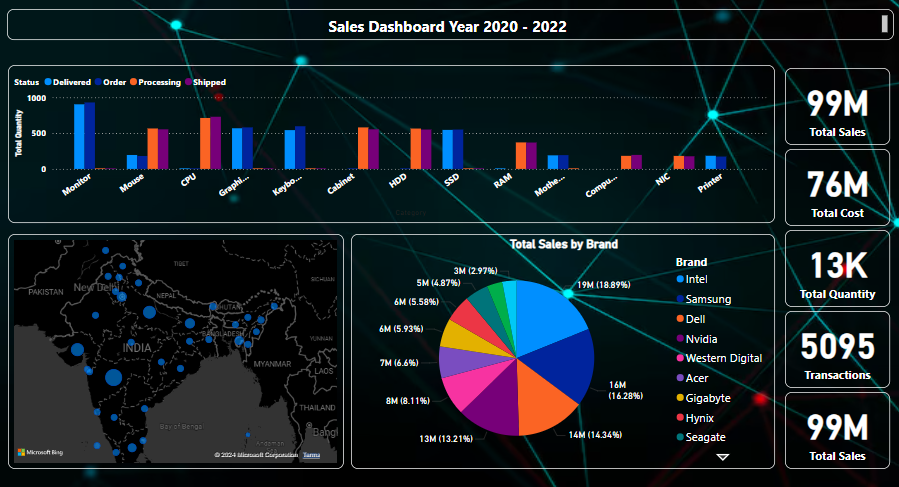

What the dashboard file says about the page in this screenshot:
{"tool":"powerbi","page":{"name":"Tecno Sales","canvas":[1280,720],"ordinal":0},"visuals":[{"type":"textbox","box":[9.9,21.3,1257.2,43.9],"z":0},{"type":"card","fields":{"Values":["Sum(Sales_Data.Total_Sales)"]},"box":[1112.6,104.9,148.8,109.1],"z":1000},{"type":"card","fields":{"Values":["Sum(Sales_Data.Total_Cost)"]},"box":[1112.6,219.7,148.8,109.1],"z":2000},{"type":"card","fields":{"Values":["Sum(Sales_Data.Quantity)"]},"box":[1112.6,334.5,148.8,109.1],"z":3000},{"type":"card","fields":{"Values":["CountNonNull(Sales_Data.Order_Number)"]},"box":[1112.6,449.3,148.8,109.1],"z":4000},{"type":"card","fields":{"Values":["Sum(Sales_Data.Total_Sales)"]},"box":[1112.6,564.1,148.8,109.1],"z":5000},{"type":"clusteredColumnChart","fields":{"Y":["Sum(Sales_Data.Quantity)"],"Category":["Sales_Data.Category"],"Series":["Sales_Data.Status"]},"box":[11.4,100,1087.1,224.3],"z":6000},{"type":"pieChart","fields":{"Y":["Sum(Sales_Data.Total_Sales)"],"Category":["Sales_Data.Brand"]},"box":[497.1,340,601.4,332.9],"z":7000},{"type":"map","fields":{"Category":["State_list.State"],"Size":["Sum(Sales_Data.Sales)"]},"box":[11.4,340,475.7,332.9],"z":8000}]}

Visuals, with their boxes in screenshot pixels (x1, y1, x2, y2):
textbox: (19, 10, 888, 40)
card - Sum(Sales_Data.Total_Sales): (781, 68, 884, 143)
card - Sum(Sales_Data.Total_Cost): (781, 147, 884, 223)
card - Sum(Sales_Data.Quantity): (781, 227, 884, 302)
card - CountNonNull(Sales_Data.Order_Number): (781, 306, 884, 381)
card - Sum(Sales_Data.Total_Sales): (781, 385, 884, 461)
clusteredColumnChart - Sum(Sales_Data.Quantity) x Sales_Data.Category: (20, 64, 771, 220)
pieChart - Sum(Sales_Data.Total_Sales) x Sales_Data.Brand: (355, 230, 771, 461)
map - State_list.State x Sum(Sales_Data.Sales): (20, 230, 349, 461)
